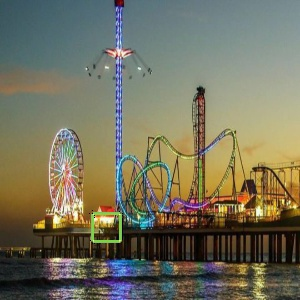square: (88, 210, 124, 245)
